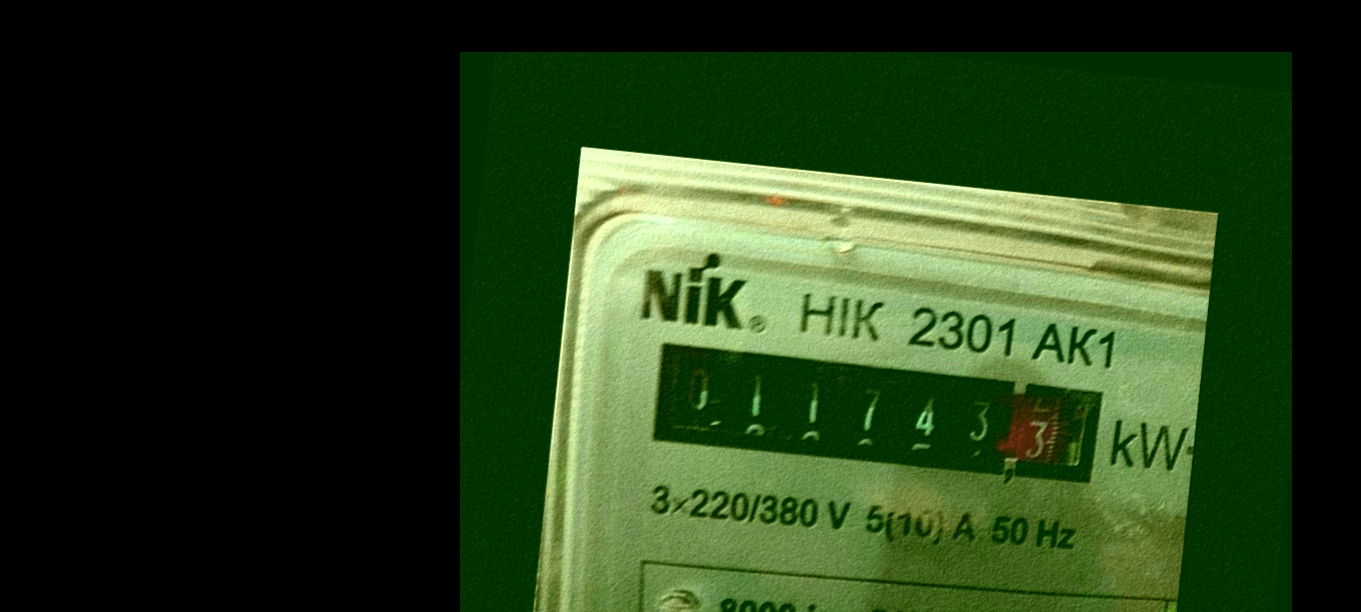0: (683, 365, 717, 415)
1: (802, 379, 828, 429), (748, 373, 769, 423)
3: (965, 398, 998, 447), (1024, 418, 1052, 464)
4: (912, 391, 944, 442)
7: (858, 387, 887, 437)
screen: (637, 333, 1113, 499)
